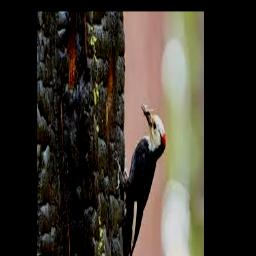Woodpecker: (115, 101, 165, 256)
